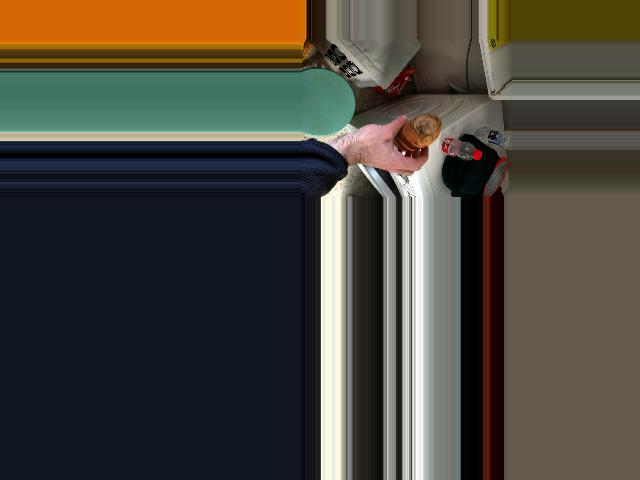sweet_potato: (392, 113, 441, 154)
